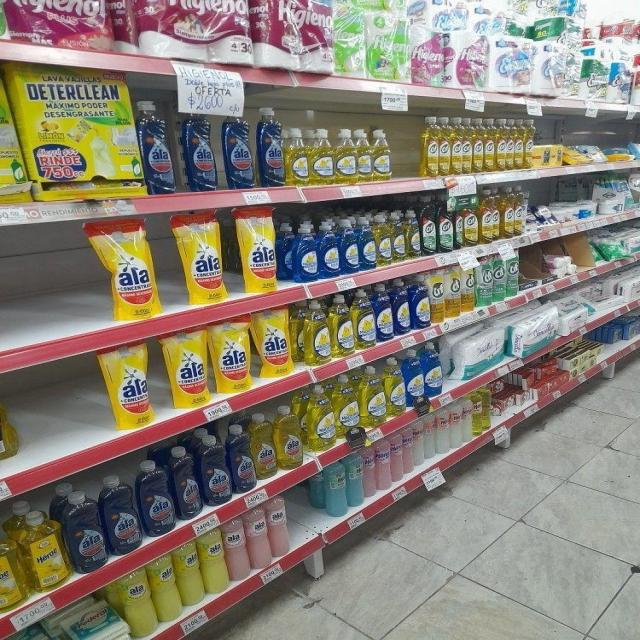ala_conc_amarillo: (277, 405, 302, 471), (253, 412, 276, 481)
ala_conc_azul: (66, 483, 105, 573), (141, 100, 176, 194), (180, 106, 217, 192), (104, 472, 139, 556), (220, 108, 254, 190), (138, 458, 173, 536), (255, 106, 284, 187), (201, 433, 230, 507), (175, 444, 200, 520), (230, 421, 253, 494)
ala_crem_amarillo: (121, 567, 153, 638), (153, 553, 178, 623), (202, 528, 226, 596), (177, 540, 201, 608)
ala_crem_rosado: (226, 517, 248, 583), (248, 505, 269, 570), (269, 495, 289, 558)
ala_sachet_amarillo: (105, 218, 159, 320), (178, 211, 226, 304), (105, 342, 154, 429), (165, 326, 209, 408), (239, 206, 277, 293), (212, 318, 252, 394), (255, 306, 293, 378)
cif_conc_bot_amarilla: (480, 188, 498, 244), (422, 115, 438, 177), (464, 193, 478, 247), (500, 186, 514, 238), (484, 117, 496, 172), (439, 116, 450, 176), (451, 116, 462, 175), (462, 117, 472, 174), (473, 117, 483, 173), (514, 186, 525, 236), (496, 118, 506, 171), (514, 119, 524, 170), (504, 118, 513, 170), (524, 119, 533, 168)
cif_conc_botella_verde: (421, 194, 436, 256), (438, 193, 453, 253), (454, 196, 464, 250)
cif_conc_sachet_amarillo: (431, 268, 445, 323), (461, 260, 475, 314), (447, 263, 460, 319)
cif_conc_sachet_verde: (476, 256, 492, 307), (493, 253, 506, 303), (506, 251, 520, 297)
heroe: (325, 460, 347, 517), (376, 436, 390, 491), (364, 442, 376, 499), (436, 406, 449, 455), (391, 431, 403, 484), (450, 402, 462, 449), (424, 412, 435, 460), (462, 398, 473, 444), (404, 426, 414, 476), (414, 420, 424, 468)
magistral_con_amarillo: (24, 509, 64, 592), (306, 383, 334, 452), (0, 519, 20, 615), (303, 299, 330, 365), (336, 373, 360, 438), (360, 364, 384, 427), (331, 293, 354, 357), (310, 128, 334, 186), (284, 128, 308, 186), (354, 289, 375, 349), (334, 128, 356, 184), (385, 356, 405, 416), (373, 128, 392, 182), (357, 128, 372, 182), (376, 213, 391, 266), (405, 209, 420, 259), (392, 211, 404, 263)
magistral_con_azul: (291, 220, 317, 282), (318, 220, 340, 278), (405, 348, 424, 408), (424, 342, 443, 398), (340, 218, 359, 274), (411, 274, 430, 330), (375, 283, 393, 342), (360, 216, 376, 270), (394, 279, 409, 335)
